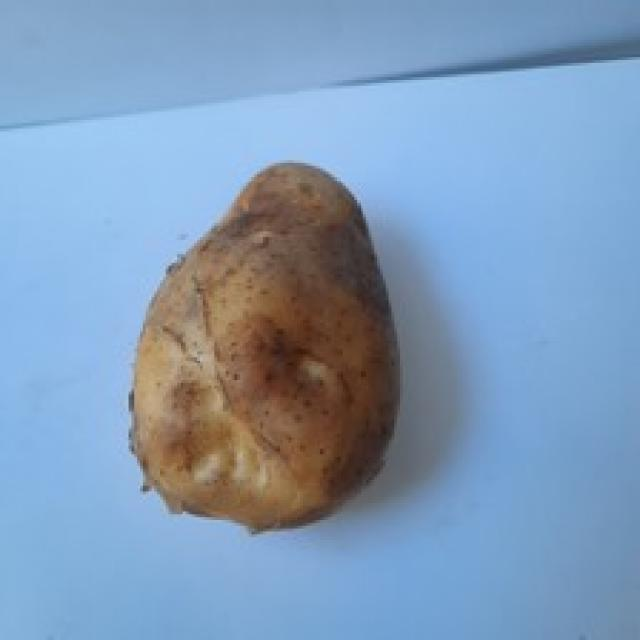Potato: (100, 74, 479, 581)
